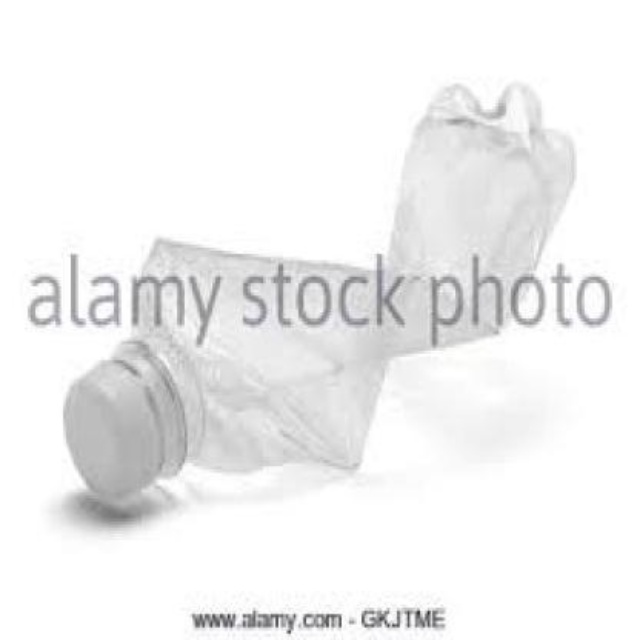trash: (63, 83, 572, 509)
